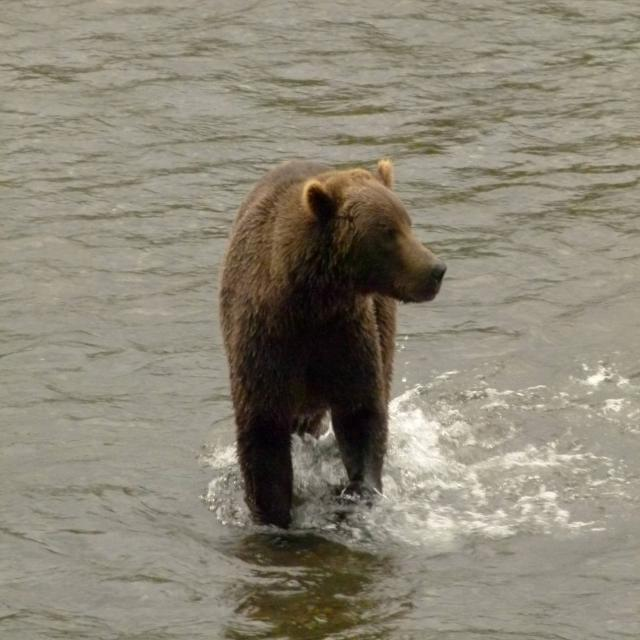bear face: (220, 158, 446, 531)
